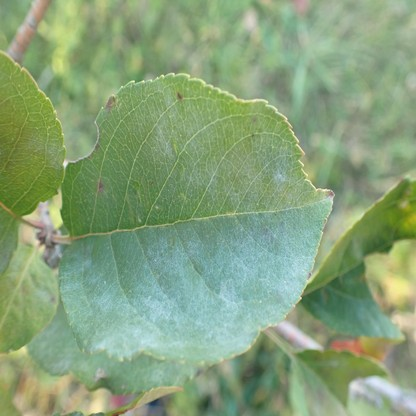powder: (59, 191, 333, 360), (148, 80, 219, 197), (218, 139, 292, 209), (29, 321, 73, 371), (34, 136, 61, 169), (39, 288, 55, 303), (351, 238, 362, 258)
